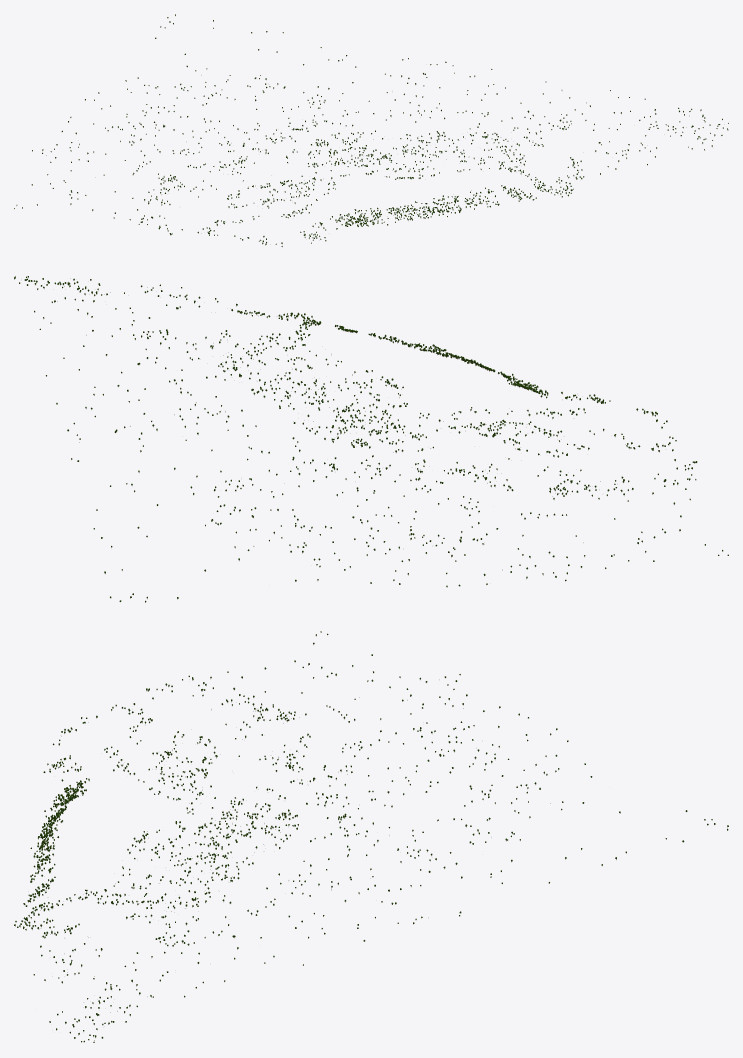
The model's file is SingleAllVegetation.fbx.
3 views of the same model, one above another, from view 1: azimuth 30°, elevation 25°; view 2: azimuth 150°, elevation 25°; view 3: azimuth 270°, elevation 25° (orthographic). The views are drawn at different scales.
Visible parts, largest first — view 1: SingleAllVegetation; view 2: SingleAllVegetation; view 3: SingleAllVegetation.
Part boxes in pixels (x1,y1,x2,y2): SingleAllVegetation: (14, 14, 728, 246); SingleAllVegetation: (14, 276, 728, 602); SingleAllVegetation: (14, 631, 728, 1042).
Bounding box in the file's own units: 315612 × 10186 × 235642.
